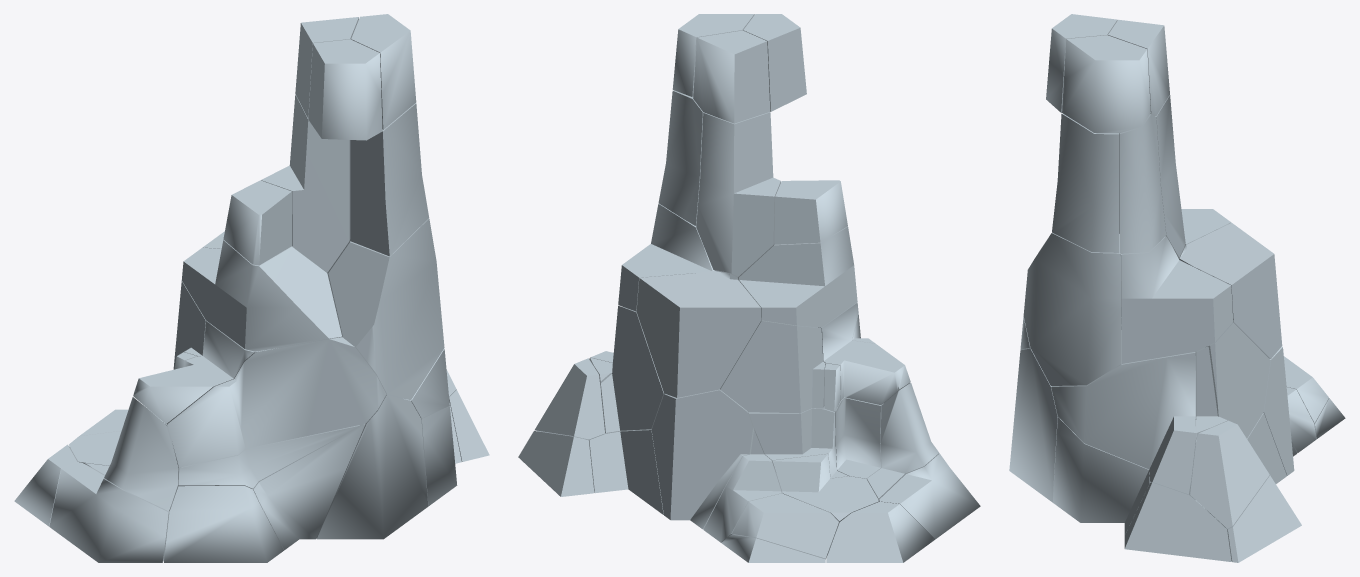
File: formationLarge_stone_destruct.fbx
3 renders of one model, left to right at view 1: azimuth 30°, elevation 25°; view 2: azimuth 150°, elevation 25°; view 3: azimuth 270°, elevation 25°, orthographic. The views are drawn at different scales.
Parts seen in each view (by area): view 1: formationLarge_stone_cell.027, formationLarge_stone_cell.023, formationLarge_stone_cell.020, formationLarge_stone_cell.012, formationLarge_stone_cell.007, formationLarge_stone_cell.026, formationLarge_stone_cell.004, formationLarge_stone_cell.032, formationLarge_stone_cell.008, formationLarge_stone_cell.006, formationLarge_stone_cell.029, formationLarge_stone_cell.003 (+11 smaller); view 2: formationLarge_stone_cell.005, formationLarge_stone_cell.004, formationLarge_stone_cell.016, formationLarge_stone_cell.020, formationLarge_stone_cell.017, formationLarge_stone_cell.015, formationLarge_stone_cell.036, formationLarge_stone_cell.003, formationLarge_stone_cell.014, formationLarge_stone_cell.013, formationLarge_stone_cell.001, formationLarge_stone_cell.026 (+14 smaller); view 3: formationLarge_stone_cell.002, formationLarge_stone_cell.023, formationLarge_stone_cell.013, formationLarge_stone_cell, formationLarge_stone_cell.007, formationLarge_stone_cell.005, formationLarge_stone_cell.010, formationLarge_stone_cell.025, formationLarge_stone_cell.024, formationLarge_stone_cell.035, formationLarge_stone_cell.012, formationLarge_stone_cell.036 (+11 smaller).
Boxes of the visible parts, box(x1,y1,x2,y2) form: formationLarge_stone_cell.027: box(167, 337, 386, 467); formationLarge_stone_cell.023: box(327, 218, 444, 400); formationLarge_stone_cell.020: box(181, 240, 341, 351); formationLarge_stone_cell.012: box(316, 394, 428, 539); formationLarge_stone_cell.007: box(350, 103, 429, 256); formationLarge_stone_cell.026: box(49, 462, 169, 562); formationLarge_stone_cell.004: box(261, 94, 350, 272); formationLarge_stone_cell.032: box(164, 485, 283, 562); formationLarge_stone_cell.008: box(308, 39, 382, 140); formationLarge_stone_cell.006: box(252, 423, 365, 550); formationLarge_stone_cell.029: box(85, 397, 178, 511); formationLarge_stone_cell.003: box(133, 321, 276, 424); formationLarge_stone_cell.005: box(636, 271, 761, 397); formationLarge_stone_cell.004: box(696, 112, 780, 277); formationLarge_stone_cell.016: box(651, 389, 753, 529); formationLarge_stone_cell.020: box(738, 226, 857, 327); formationLarge_stone_cell.017: box(720, 320, 825, 413); formationLarge_stone_cell.015: box(693, 30, 770, 123); formationLarge_stone_cell.036: box(601, 305, 664, 432); formationLarge_stone_cell.003: box(818, 302, 910, 404); formationLarge_stone_cell.014: box(826, 501, 934, 562); formationLarge_stone_cell.013: box(618, 203, 714, 311); formationLarge_stone_cell.001: box(732, 493, 838, 559); formationLarge_stone_cell.026: box(878, 453, 980, 539); formationLarge_stone_cell.002: box(1051, 326, 1195, 499); formationLarge_stone_cell.023: box(1023, 233, 1120, 385); formationLarge_stone_cell.013: box(1121, 236, 1233, 363); formationLarge_stone_cell: box(1062, 35, 1150, 133); formationLarge_stone_cell.007: box(1052, 113, 1118, 252); formationLarge_stone_cell.005: box(1178, 222, 1282, 358); formationLarge_stone_cell.010: box(1053, 417, 1206, 535); formationLarge_stone_cell.025: box(1124, 482, 1231, 561); formationLarge_stone_cell.024: box(1190, 420, 1269, 528); formationLarge_stone_cell.035: box(1119, 114, 1166, 253); formationLarge_stone_cell.012: box(1009, 348, 1057, 502); formationLarge_stone_cell.036: box(1196, 322, 1270, 438).
Bounding box in the file's own units: 136 × 138 × 94.68.
